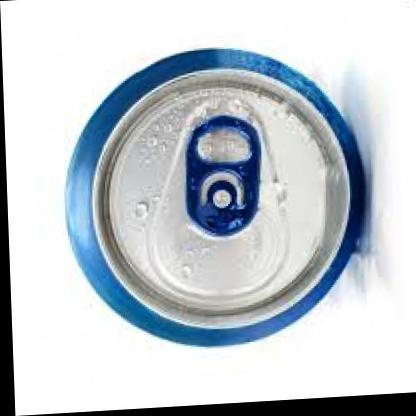trash: (1, 0, 415, 414), (64, 47, 371, 347), (67, 49, 364, 345)
